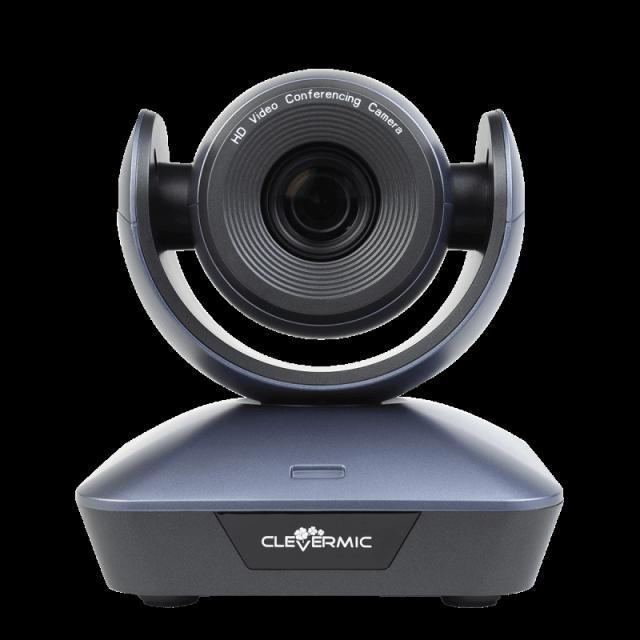hidden camera: (250, 142, 389, 269)
